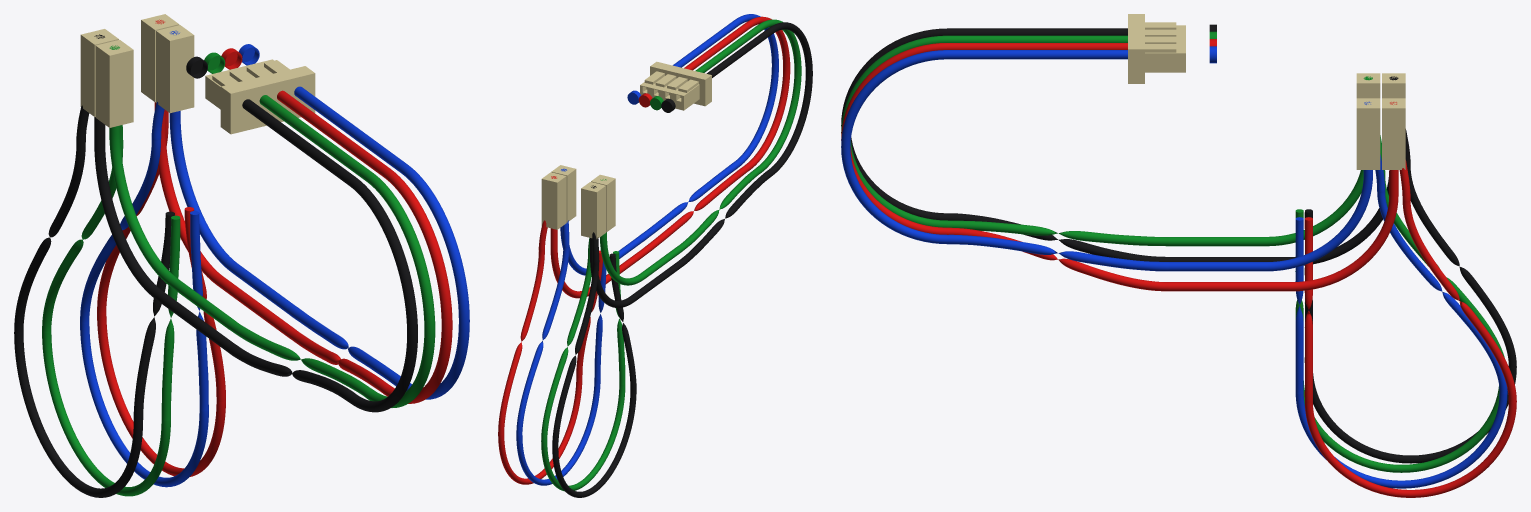
File: motor_harness.glb
3 renders of one model, left to right at view 1: azimuth 30°, elevation 25°; view 2: azimuth 150°, elevation 25°; view 3: azimuth 270°, elevation 25°, orthographic. The views are drawn at different scales.
Visible parts, largest first — view 1: Wire_1, Wire_2, Wire_4, Wire_3, FactoryLead_1, FactoryLead_4, FactoryLead_2, FactoryLead_3, PHR4_mating_housing_envelope, Splice_insulation_2, Splice_insulation_4, Splice_insulation_1 (+1 smaller); view 2: Wire_1, Wire_3, Wire_2, FactoryLead_1, FactoryLead_4, Wire_4, FactoryLead_3, FactoryLead_2, PHR4_mating_housing_envelope, Splice_insulation_3, Splice_insulation_1, Splice_insulation_4 (+1 smaller); view 3: Wire_4, Wire_3, Wire_2, FactoryLead_3, Wire_1, FactoryLead_4, FactoryLead_1, FactoryLead_2, PHR4_mating_housing_envelope, Splice_insulation_4, Splice_insulation_3.
Part boxes in pixels (x1,y1,x2,y2): Wire_1: [94, 34, 417, 412]; Wire_2: [109, 45, 435, 407]; Wire_4: [169, 30, 469, 399]; Wire_3: [154, 19, 452, 403]; FactoryLead_1: [14, 35, 174, 497]; FactoryLead_4: [80, 31, 208, 487]; FactoryLead_2: [42, 46, 180, 496]; FactoryLead_3: [97, 20, 225, 476]; PHR4_mating_housing_envelope: [205, 59, 315, 134]; Splice_insulation_2: [95, 39, 133, 127]; Splice_insulation_4: [156, 25, 194, 113]; Splice_insulation_1: [80, 29, 118, 116]; Wire_1: [590, 22, 812, 307]; Wire_3: [550, 16, 790, 298]; Wire_2: [600, 19, 801, 285]; FactoryLead_1: [552, 186, 636, 497]; FactoryLead_4: [516, 169, 606, 485]; Wire_4: [560, 14, 778, 275]; FactoryLead_3: [498, 176, 602, 484]; FactoryLead_2: [541, 179, 625, 491]; PHR4_mating_housing_envelope: [640, 61, 711, 110]; Splice_insulation_3: [541, 172, 566, 229]; Splice_insulation_1: [581, 182, 605, 239]; Splice_insulation_4: [551, 165, 576, 222]; Wire_4: [841, 50, 1372, 271]; Wire_3: [841, 43, 1398, 291]; Wire_2: [841, 35, 1372, 246]; FactoryLead_3: [1304, 102, 1516, 497]; Wire_1: [841, 28, 1398, 265]; FactoryLead_4: [1295, 102, 1507, 488]; FactoryLead_1: [1304, 76, 1516, 463]; FactoryLead_2: [1295, 77, 1504, 472]; PHR4_mating_housing_envelope: [1128, 14, 1185, 83]; Splice_insulation_4: [1356, 98, 1380, 169]; Splice_insulation_3: [1382, 98, 1405, 169].
Size of the model in its own units: 11.68 by 57.57 by 79.52.
